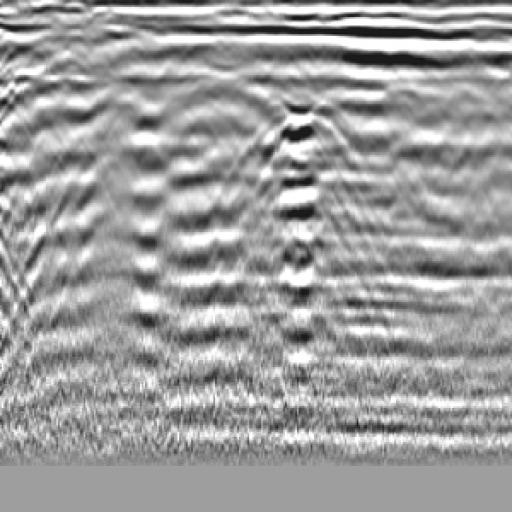metalic: (34, 62, 186, 307), (123, 54, 280, 286)
non-metallic: (221, 81, 383, 349)
